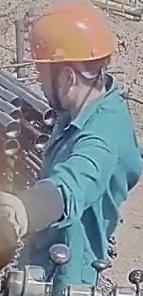helmet: (24, 0, 117, 63)
vest: (20, 74, 142, 295)
